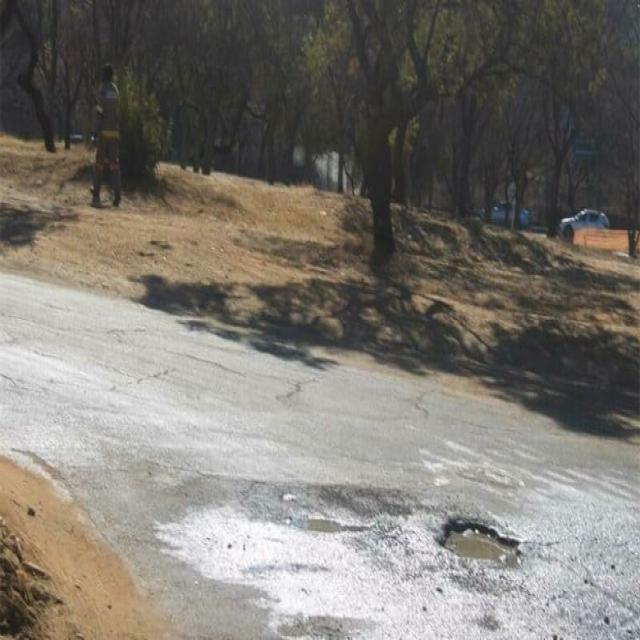water_leak: (318, 490, 640, 638)
